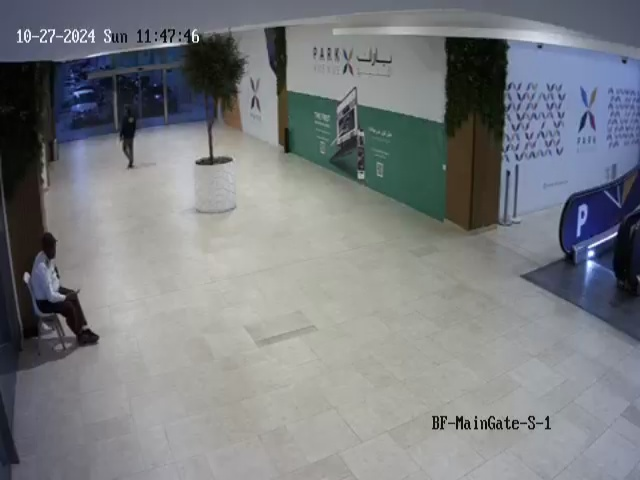male: (30, 232, 100, 346), (119, 104, 137, 169)
